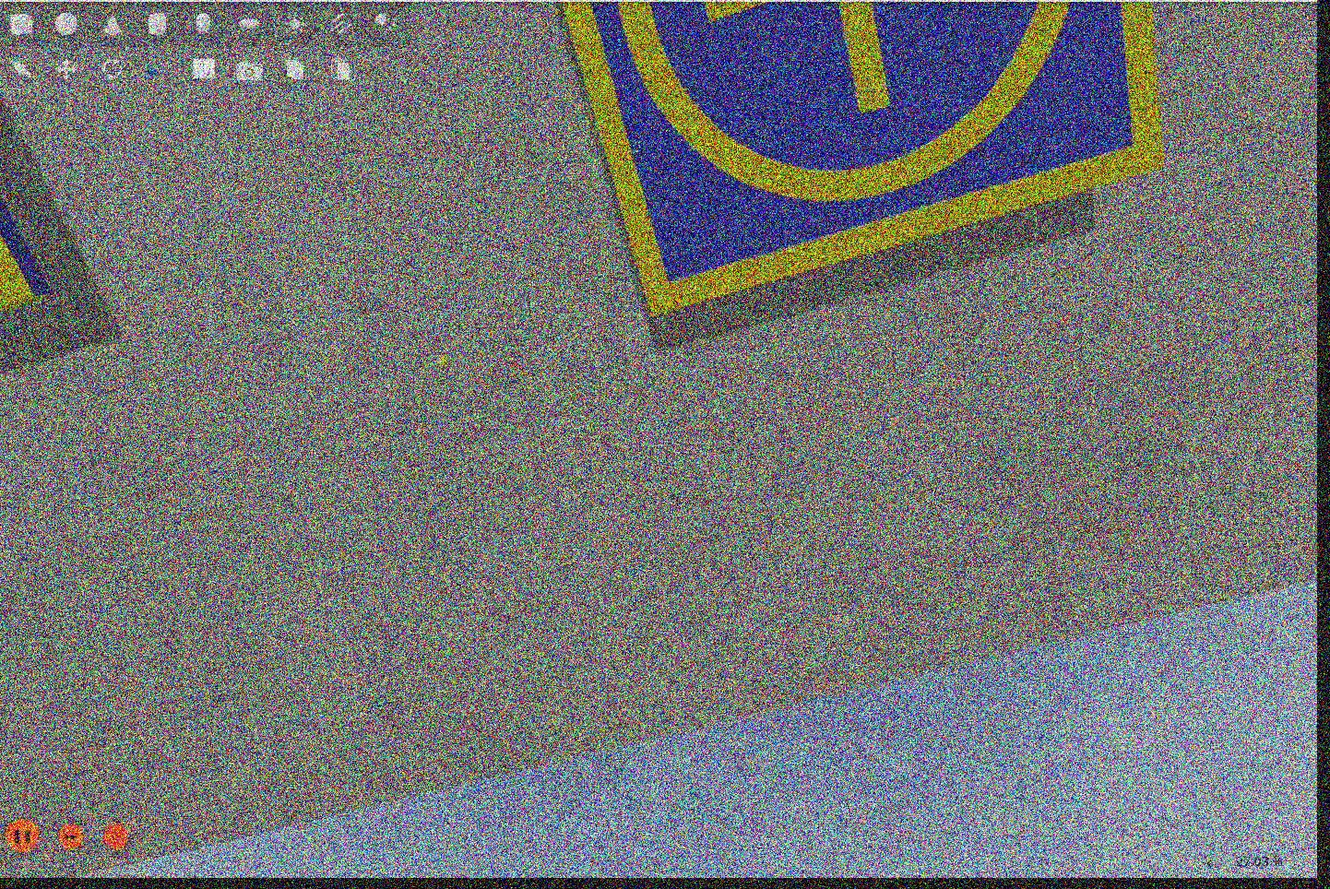small_base: (557, 1, 1164, 319)
